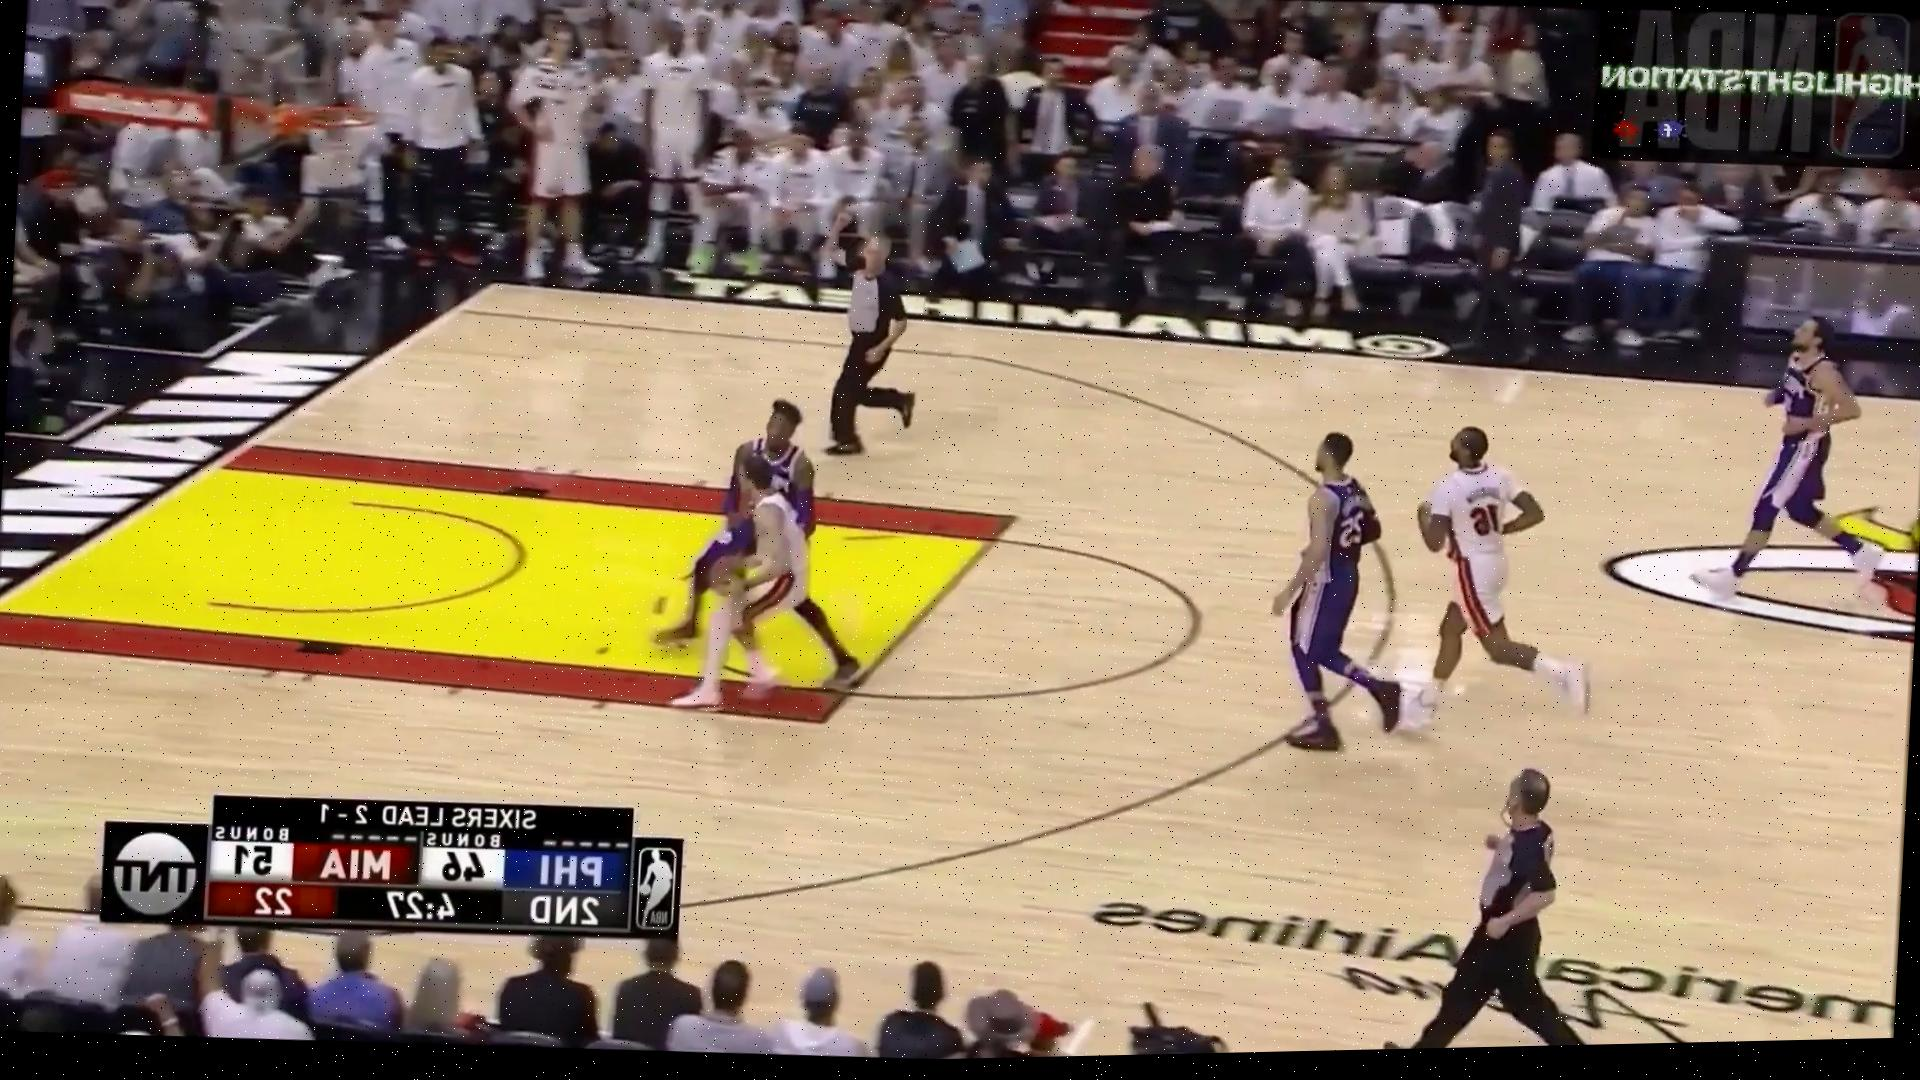no_foul: (644, 388, 882, 717)
